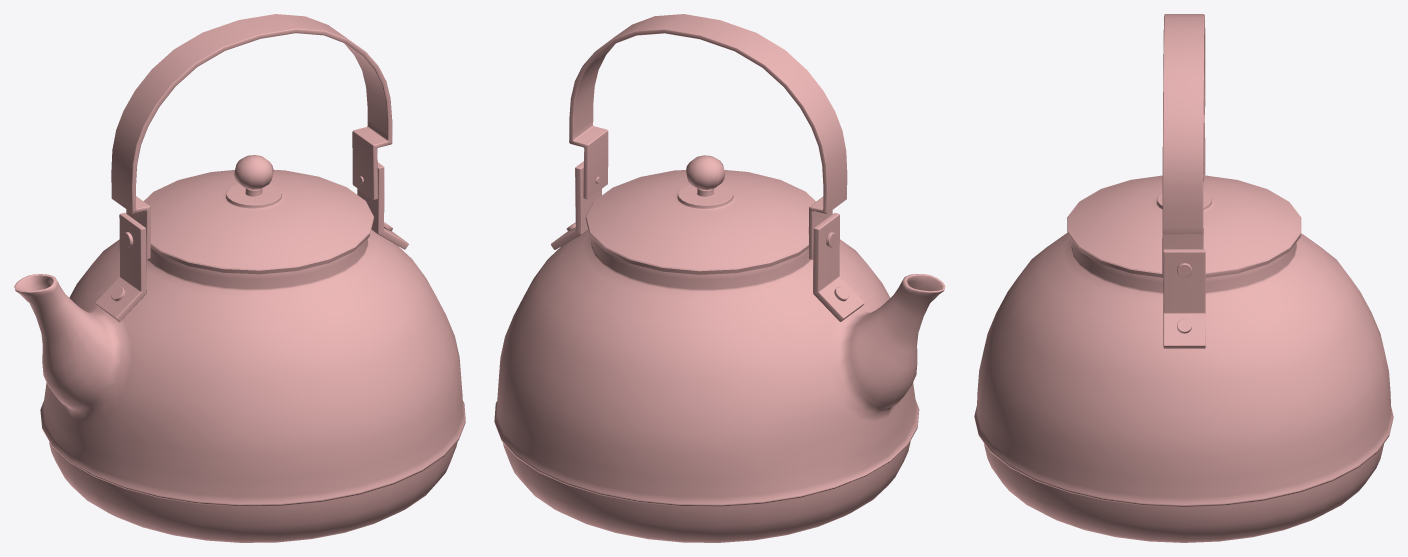
Rendered from teapot.fbx.
3 views of the same model, side by side, from view 1: azimuth 30°, elevation 25°; view 2: azimuth 150°, elevation 25°; view 3: azimuth 270°, elevation 25° (orthographic).
Parts seen in each view (by area): view 1: polySurface1084; view 2: polySurface1084; view 3: polySurface1084.
Boxes of the visible parts, bbox=[...] form: polySurface1084: bbox=[14, 14, 465, 542]; polySurface1084: bbox=[494, 14, 945, 542]; polySurface1084: bbox=[974, 14, 1393, 542].
Size of the model in its own units: 0.3012 by 0.3011 by 0.2628.
